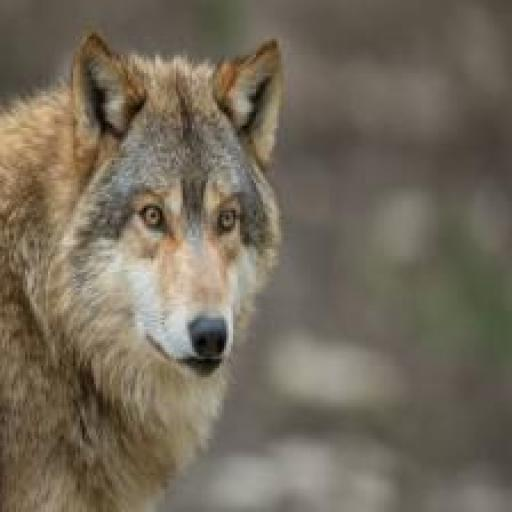wolf: (0, 7, 354, 512)
